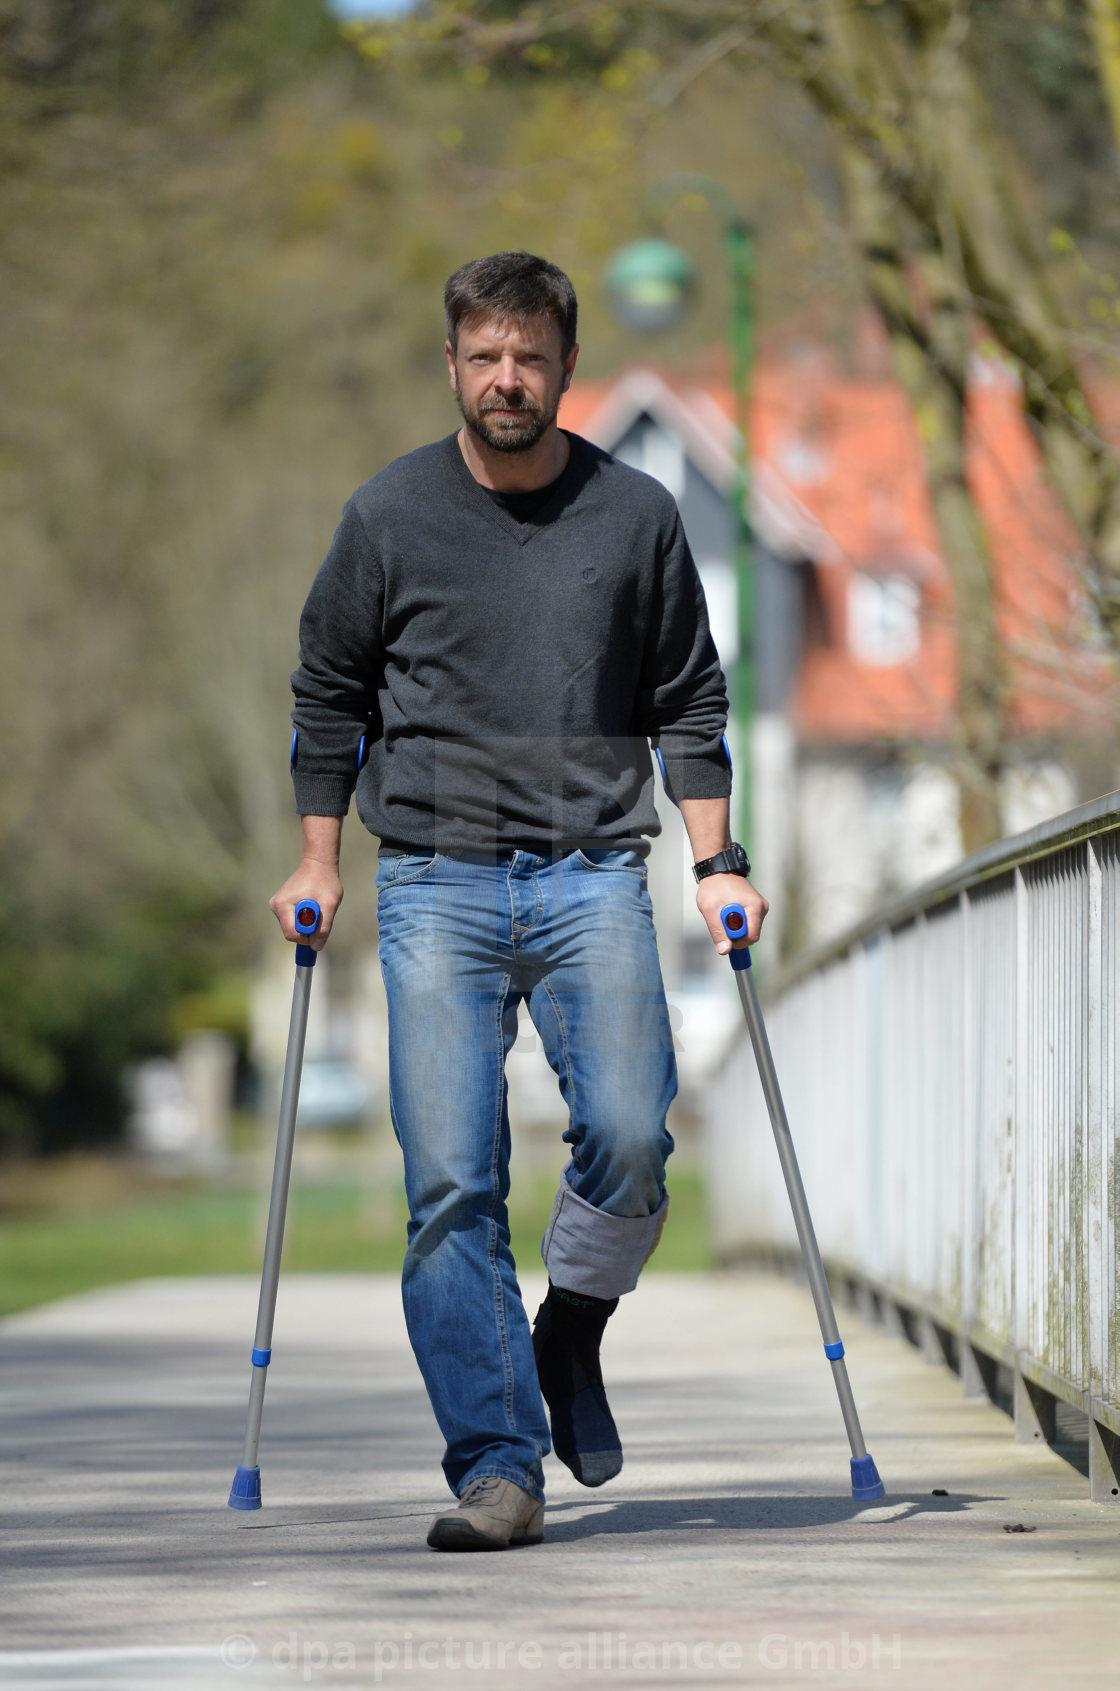crutches: (227, 250, 886, 1550)
